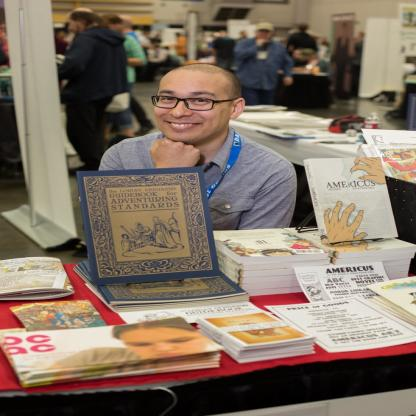book: (78, 165, 222, 285), (0, 316, 227, 389), (304, 149, 406, 245), (74, 260, 249, 315), (268, 293, 416, 353), (211, 227, 334, 296), (282, 221, 416, 280), (195, 310, 318, 364), (290, 262, 394, 302), (117, 301, 264, 326), (0, 256, 76, 301), (356, 128, 416, 185), (362, 276, 416, 328)
